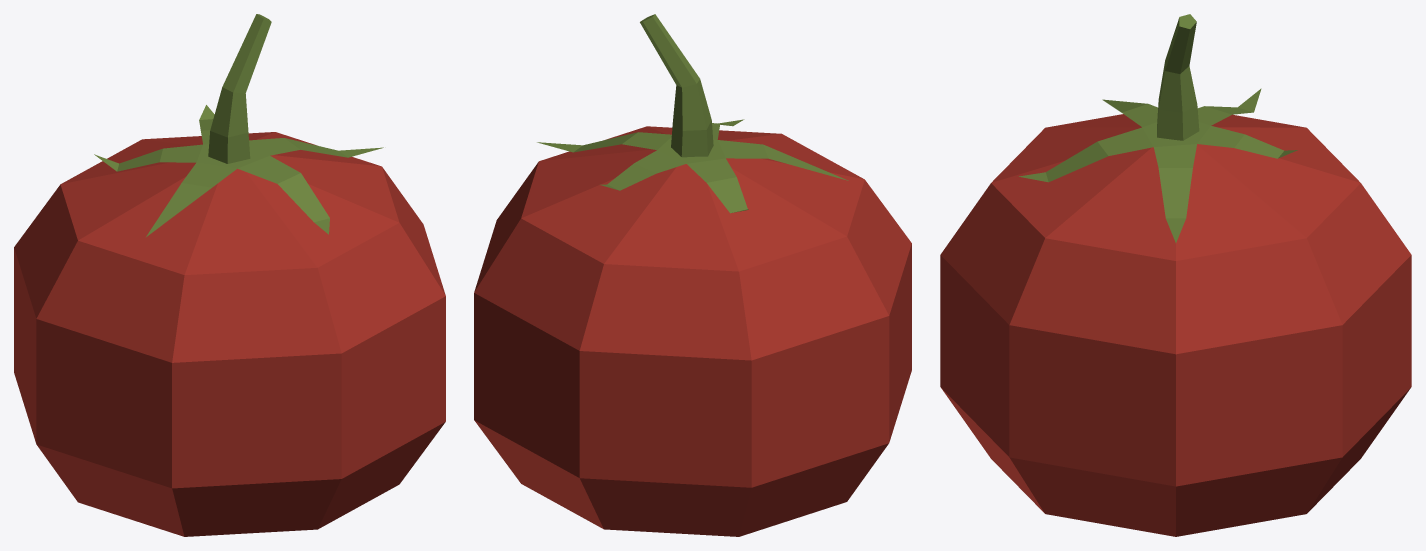
The model's file is SM_Envr_Nature_Farm_Vegetable_Tomato.fbx.
3 views of the same model, side by side, from view 1: azimuth 30°, elevation 25°; view 2: azimuth 150°, elevation 25°; view 3: azimuth 270°, elevation 25° (orthographic). The views are drawn at different scales.
Visible parts, largest first — view 1: SM_Envr_Nature_Farm_Vegetable_Tomato; view 2: SM_Envr_Nature_Farm_Vegetable_Tomato; view 3: SM_Envr_Nature_Farm_Vegetable_Tomato.
Boxes of the visible parts, x1,y1,x2,y2 form: SM_Envr_Nature_Farm_Vegetable_Tomato: [14, 14, 445, 536]; SM_Envr_Nature_Farm_Vegetable_Tomato: [474, 14, 911, 536]; SM_Envr_Nature_Farm_Vegetable_Tomato: [940, 14, 1411, 536].
Size of the model in its own units: 10.11 by 12.02 by 10.11.
